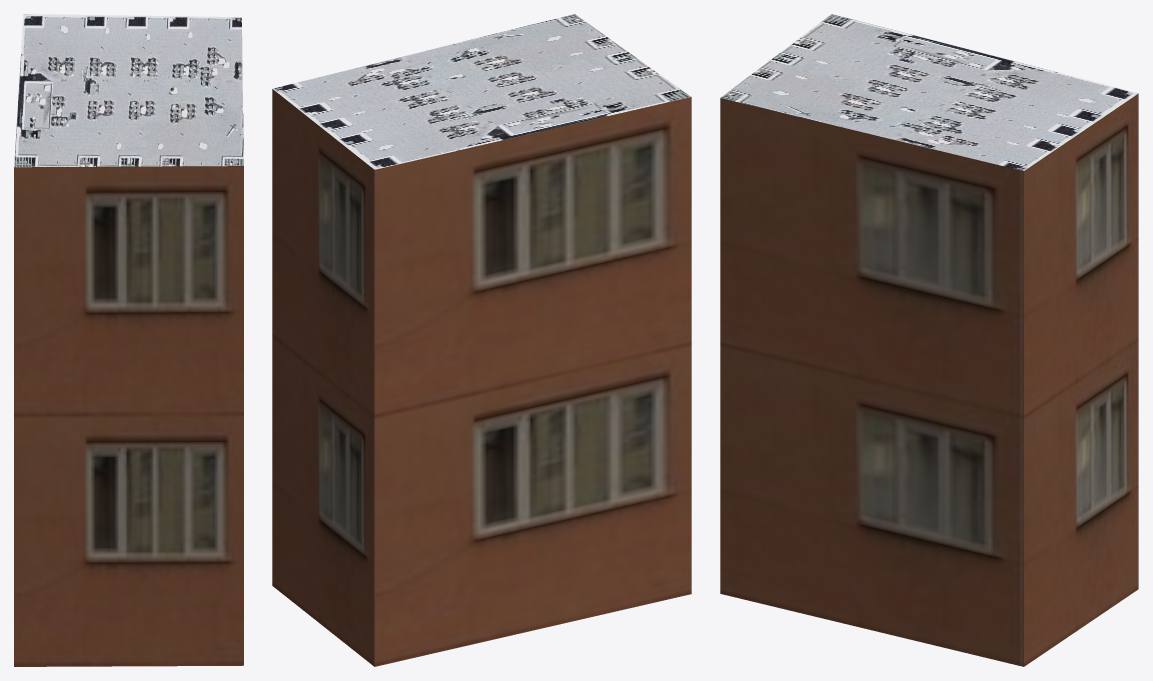
File: ResTex__4384.fbx
The picture shows the model from 3 angles, left to right: view 1: azimuth 30°, elevation 25°; view 2: azimuth 150°, elevation 25°; view 3: azimuth 270°, elevation 25°; orthographic projection.
Visible parts, largest first — view 1: CityEngineMaterial_20_m, CityEngineMaterial_m; view 2: CityEngineMaterial_20_m, CityEngineMaterial_m; view 3: CityEngineMaterial_20_m, CityEngineMaterial_m.
Part boxes in pixels (box(x1,y1,x2,y2)): CityEngineMaterial_20_m: box(14, 166, 243, 666); CityEngineMaterial_m: box(14, 14, 243, 167); CityEngineMaterial_20_m: box(272, 89, 691, 666); CityEngineMaterial_m: box(272, 14, 690, 169); CityEngineMaterial_20_m: box(720, 93, 1138, 666); CityEngineMaterial_m: box(720, 14, 1138, 170).
Bounding box in the file's own units: 4.08 × 6 × 4.59.
Materials: 2 (2 with a texture image).
